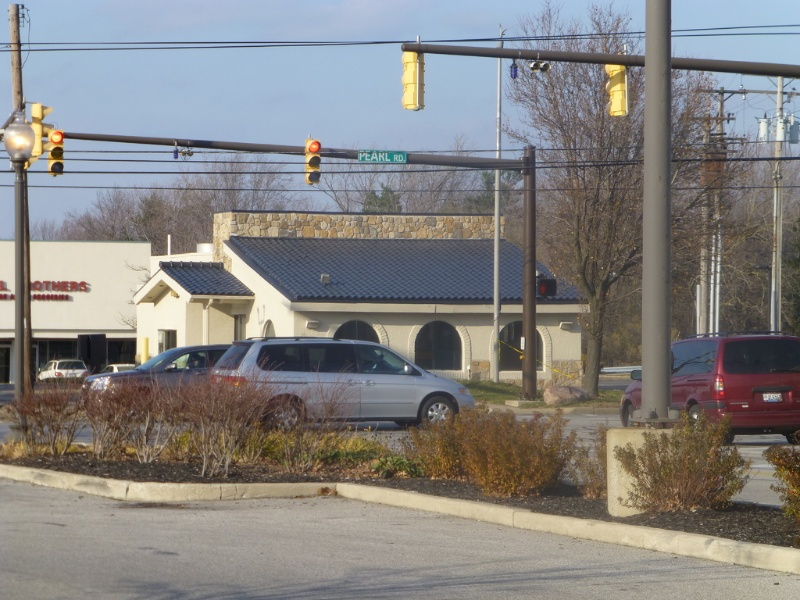red_light: (45, 127, 67, 147), (304, 137, 326, 155)
